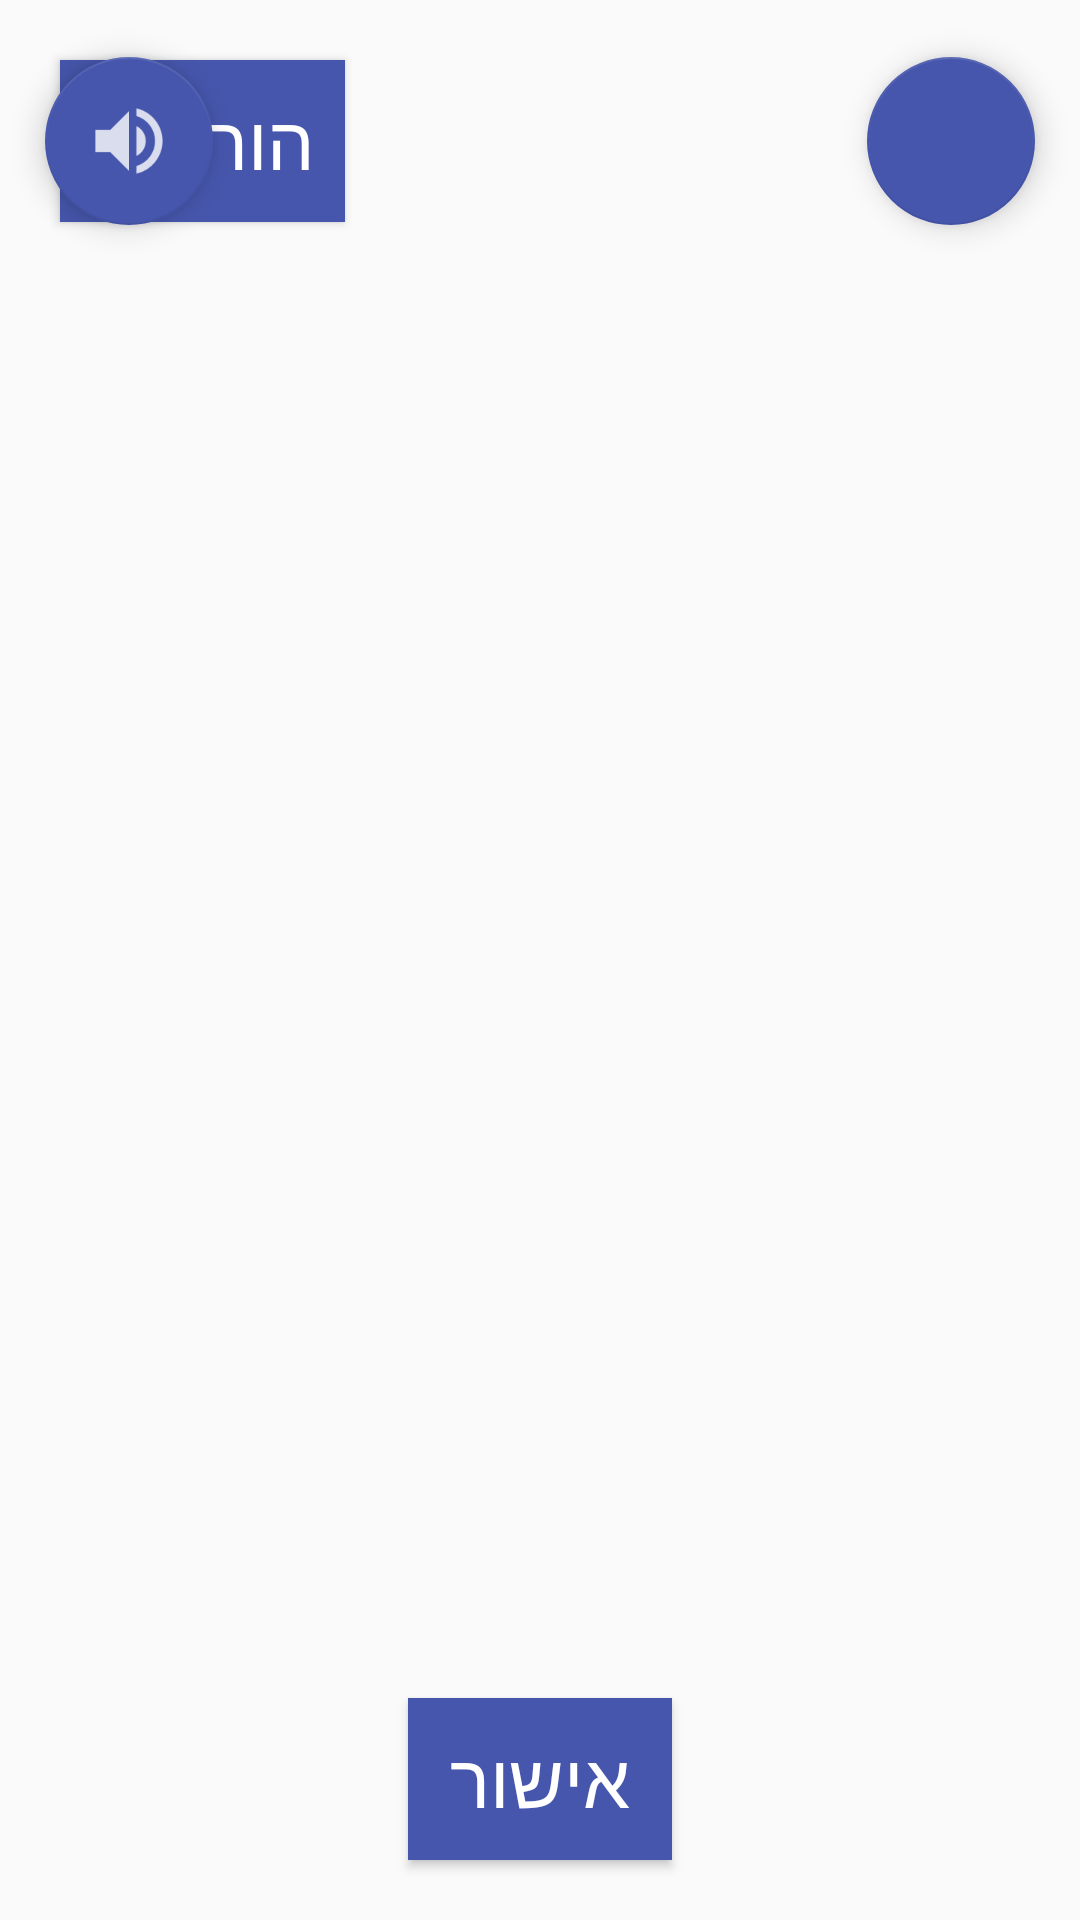

Named icons in this screenshot (1080px x 1920px) and their centers, [x,y]:
sound: [129,141]
